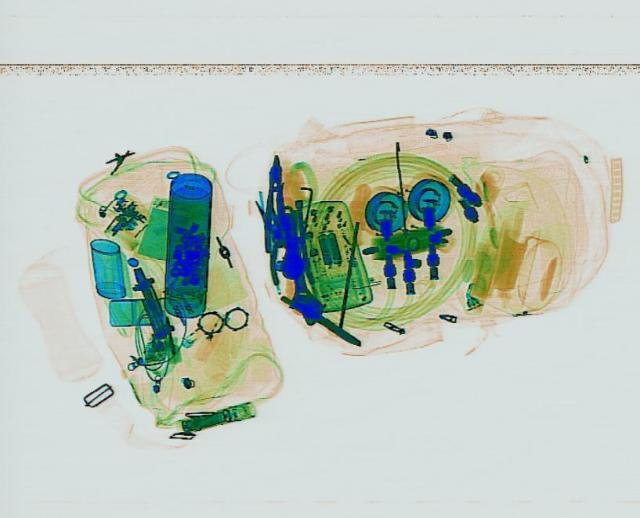Pliers: (270, 185, 290, 283)
